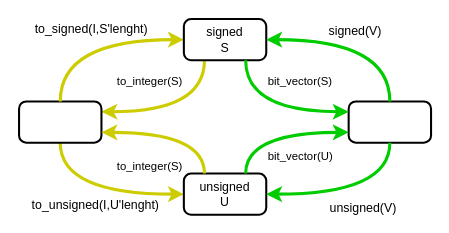
The diagram is 449 pixels wide and 233 high, and some of its shapes have lost their labels. Each missing label, with the centre of its shape:
"bit_vector V" goes at [389,121].
"integer I" goes at [60,121].
